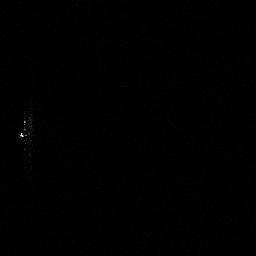ship: (20, 112, 34, 155)
